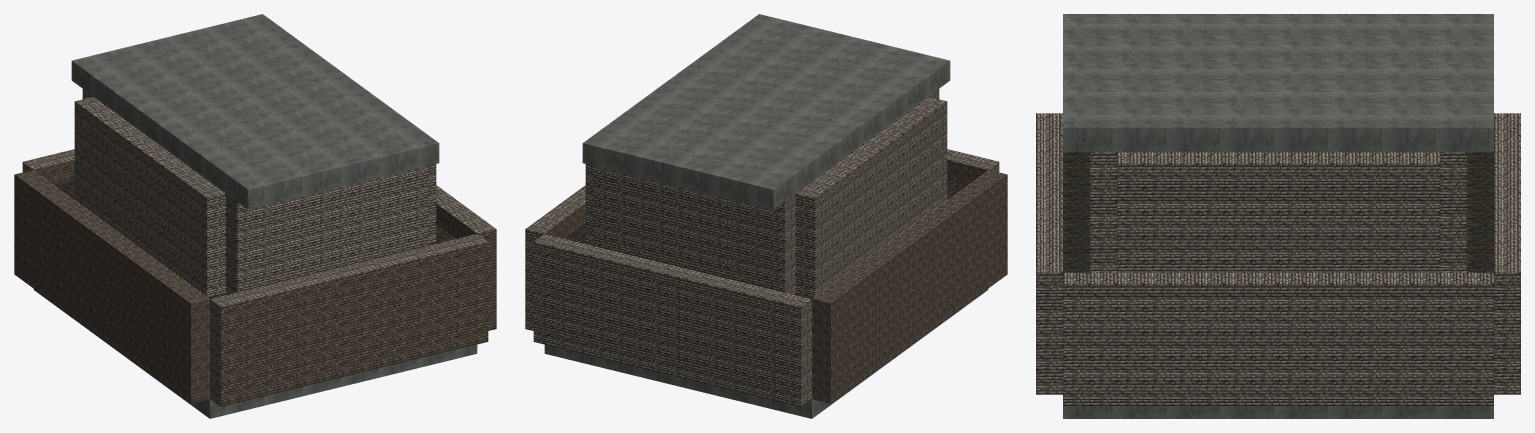
File: KnifeFight.fbx
3 views of the same model, side by side, from view 1: azimuth 30°, elevation 25°; view 2: azimuth 150°, elevation 25°; view 3: azimuth 270°, elevation 25° (orthographic). The views are drawn at different scales.
Parts seen in each view (by area): view 1: Mesh_015, Mesh_013, Mesh_014, Mesh_005, Mesh_001, Mesh_006, Mesh_011, Mesh_016, Mesh_004; view 2: Mesh_015, Mesh_016, Mesh_014, Mesh_005, Mesh, Mesh_006, Mesh_011, Mesh_013, Mesh_004; view 3: Mesh_015, Mesh_011, Mesh_004, Mesh_016, Mesh_013, Mesh_006, Mesh_001, Mesh, Mesh_012, Mesh_009, Mesh_010.
Boxes of the visible parts, x1,y1,x2,y2 form: Mesh_015: (71, 14, 439, 209); Mesh_013: (210, 234, 488, 406); Mesh_014: (14, 170, 209, 403); Mesh_005: (74, 96, 225, 297); Mesh_001: (226, 166, 428, 294); Mesh_006: (33, 289, 477, 418); Mesh_011: (436, 185, 496, 330); Mesh_016: (22, 149, 74, 184); Mesh_004: (428, 164, 436, 243); Mesh_015: (582, 14, 950, 209); Mesh_016: (533, 234, 811, 406); Mesh_014: (812, 170, 1007, 403); Mesh_005: (796, 96, 947, 297); Mesh: (593, 166, 795, 294); Mesh_006: (544, 289, 988, 418); Mesh_011: (525, 185, 585, 330); Mesh_013: (947, 149, 999, 184); Mesh_004: (585, 164, 593, 243); Mesh_015: (1063, 14, 1493, 152); Mesh_011: (1063, 272, 1493, 405); Mesh_004: (1117, 152, 1439, 272); Mesh_016: (1494, 113, 1520, 394); Mesh_013: (1036, 113, 1062, 394); Mesh_006: (1063, 406, 1493, 418); Mesh_001: (1090, 152, 1116, 272); Mesh: (1440, 152, 1466, 272); Mesh_012: (1467, 160, 1493, 272); Mesh_009: (1063, 160, 1089, 272); Mesh_010: (1063, 152, 1493, 160).
Bounding box in the file's own units: 158 × 109 × 178.
Materials: 5 (5 with a texture image).
